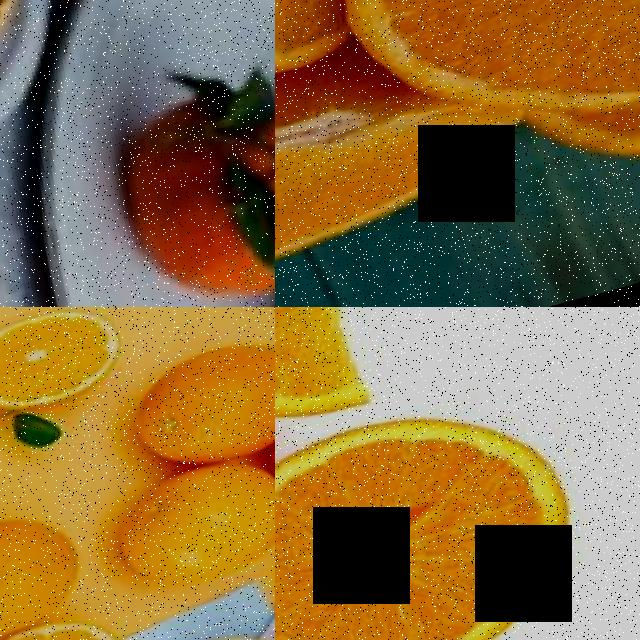orange: (275, 364, 627, 640), (275, 27, 526, 307), (347, 0, 640, 153), (109, 69, 275, 307), (99, 439, 275, 602), (114, 324, 275, 480), (275, 307, 400, 459), (0, 307, 144, 421), (0, 492, 104, 640), (0, 596, 156, 640)
